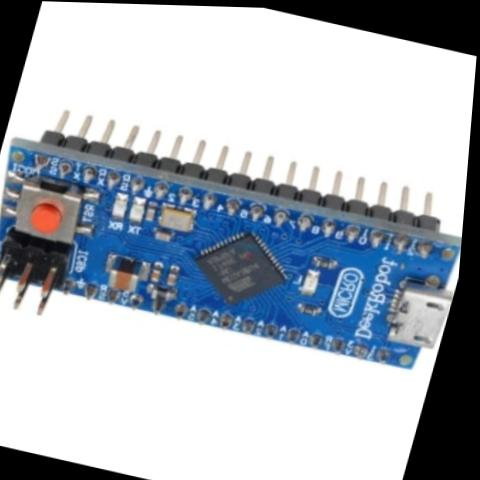Arduino-Micro: (0, 80, 475, 406)
